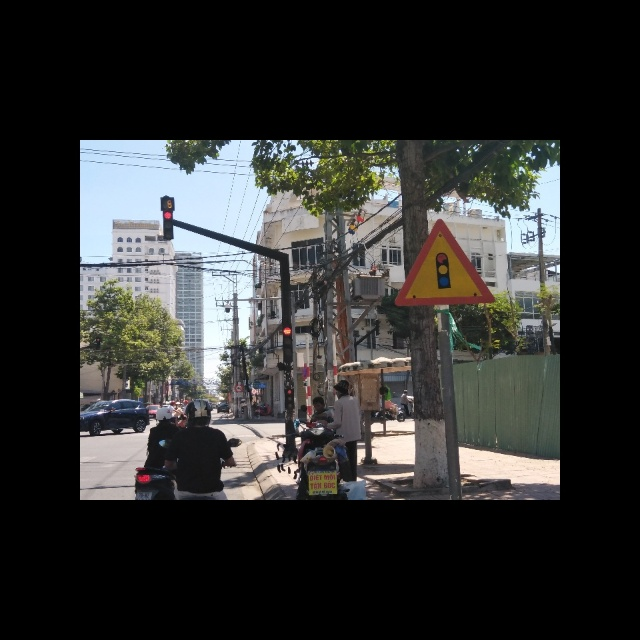Giao nhau có tín hiệu đèn: (388, 216, 492, 304)
Đèn đỏ: (283, 326, 292, 335)
